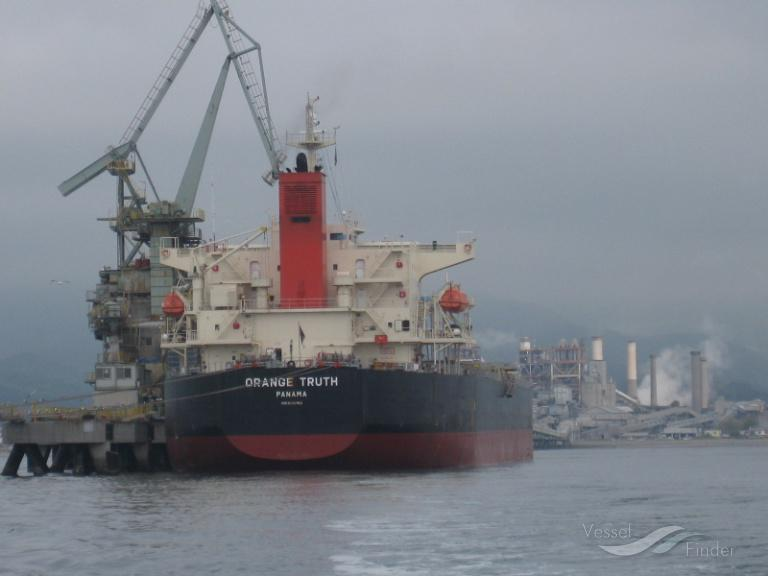OCR: (242, 370, 344, 416)
